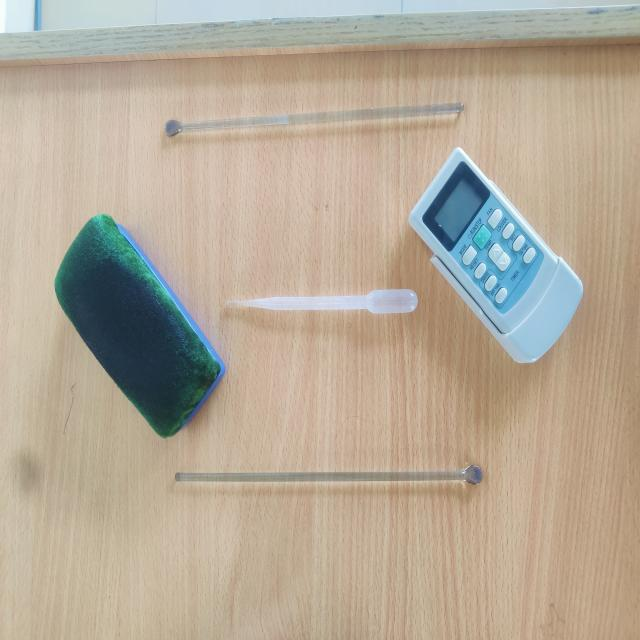Glass_Rod: (157, 434, 518, 531), (104, 94, 530, 170)
Pipette: (215, 242, 432, 372)
